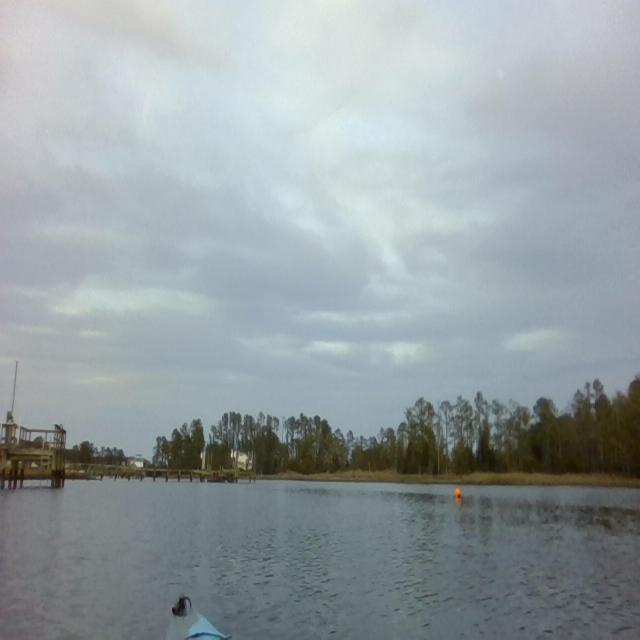Buoy: (453, 486, 463, 501)
